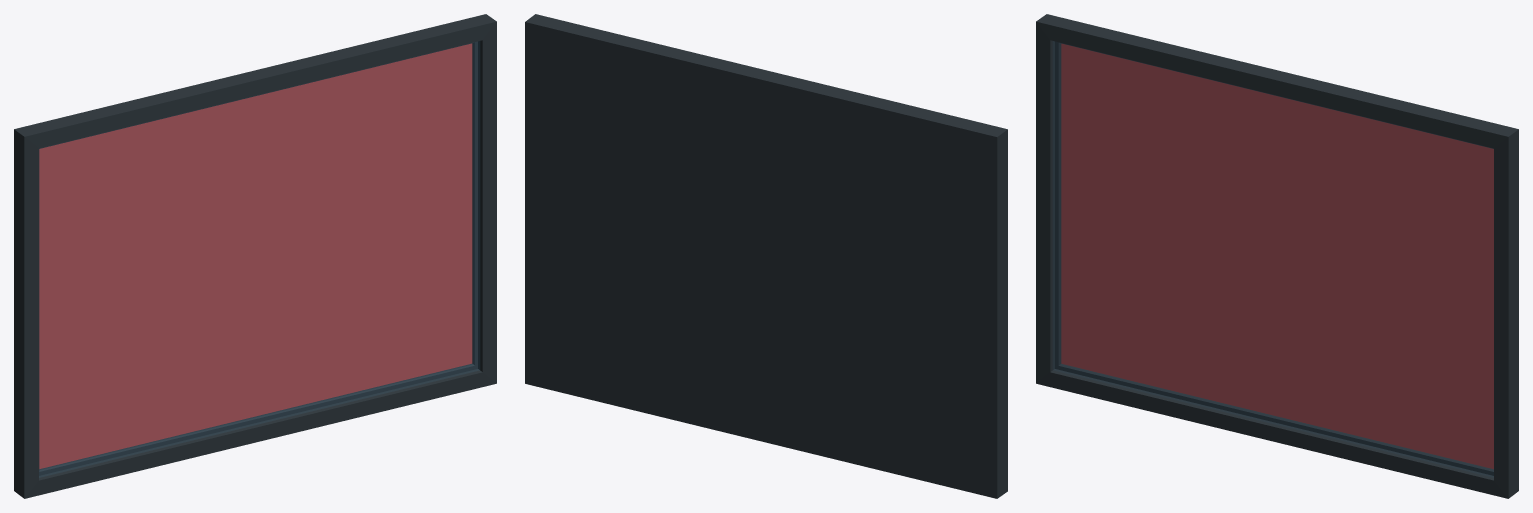
File: Frame B.fbx
3 renders of one model, left to right at view 1: azimuth 30°, elevation 25°; view 2: azimuth 150°, elevation 25°; view 3: azimuth 330°, elevation 25°, orthographic.
Visible parts, largest first — view 1: Glass, Image, Frame_B; view 2: Frame_B; view 3: Glass, Image, Frame_B.
Boxes of the visible parts, x1=… form: Glass: x1=39, y1=41, x2=479, y2=476; Image: x1=39, y1=43, x2=472, y2=468; Frame_B: x1=14, y1=14, x2=496, y2=498; Frame_B: x1=525, y1=14, x2=1007, y2=498; Glass: x1=1053, y1=41, x2=1493, y2=476; Image: x1=1061, y1=43, x2=1493, y2=469; Frame_B: x1=1036, y1=14, x2=1518, y2=498.
Size of the model in its own units: 897 by 657 by 35.5.
